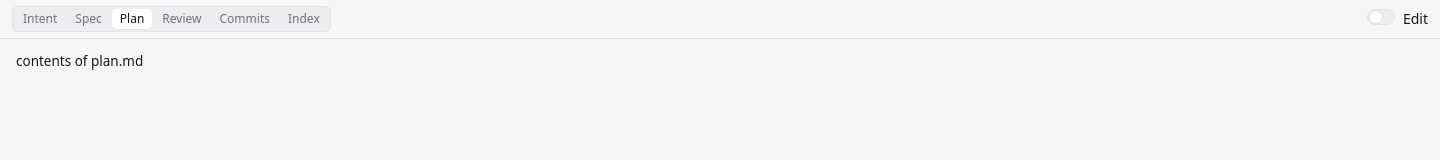
Test: opens on the stage's file and switches files
The width and height of the screenshot is (1440, 160).
Expected: the text "contents of plan.md" is shown, x1=16 y1=52 x2=143 y2=70
Click the radio button labelled "Intent". click: (40, 19)
box: x1=15 y1=9 x2=65 y2=29
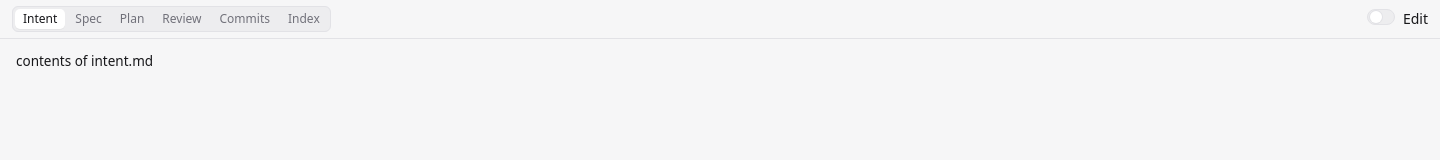
Result: the text "contents of intent.md" is shown at x1=16 y1=52 x2=153 y2=70
